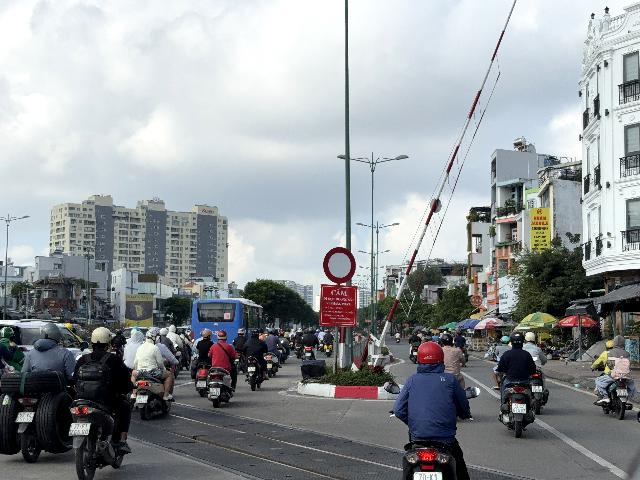duong-cam: (323, 247, 356, 284)
